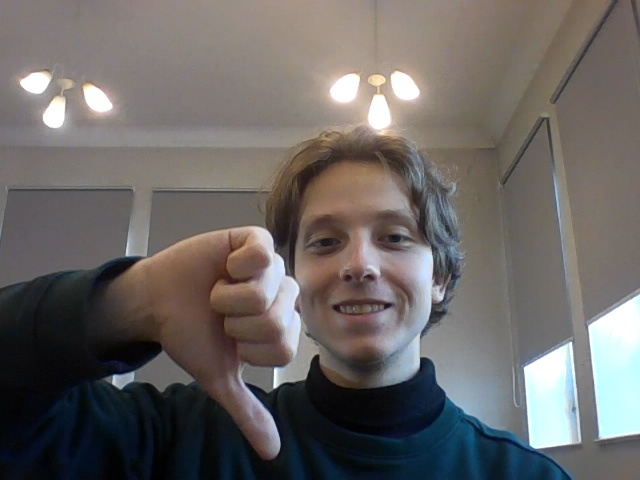no: (151, 223, 315, 463)
